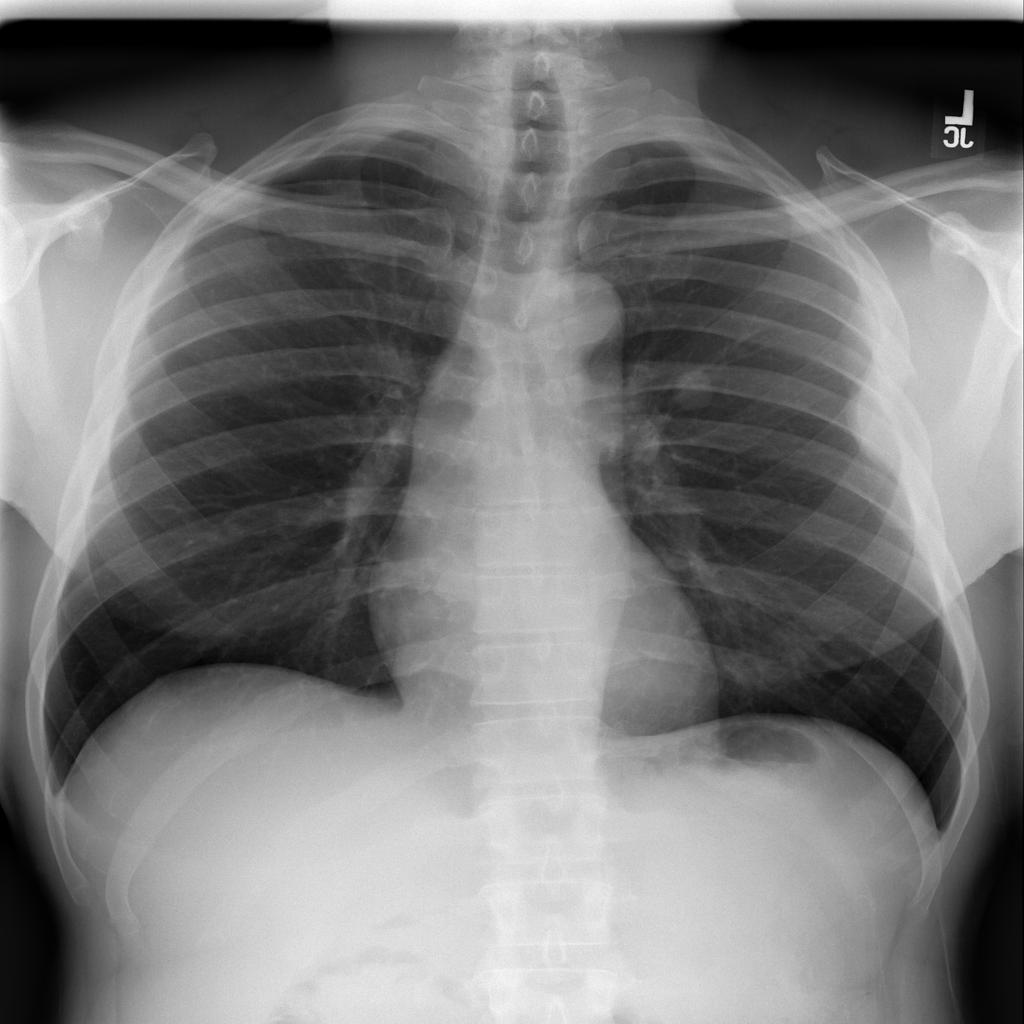nodule: (655, 354, 732, 422)
